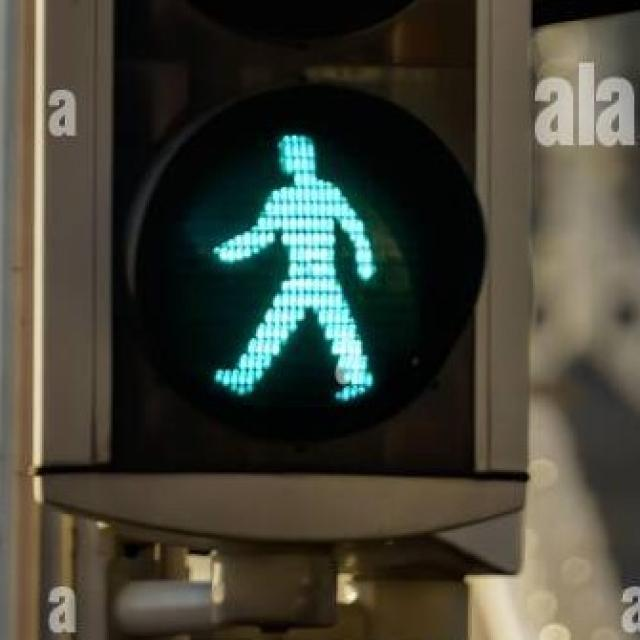geen-crossing: (204, 107, 390, 413)
